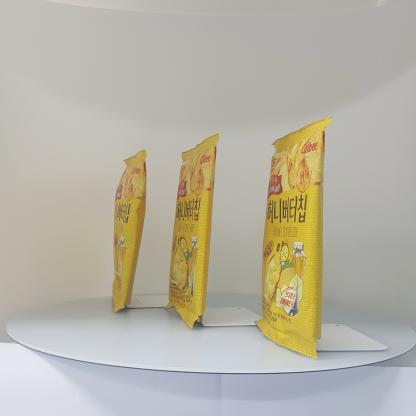Plastic Packaging: (256, 110, 330, 366), (172, 126, 220, 327), (106, 147, 146, 315)
